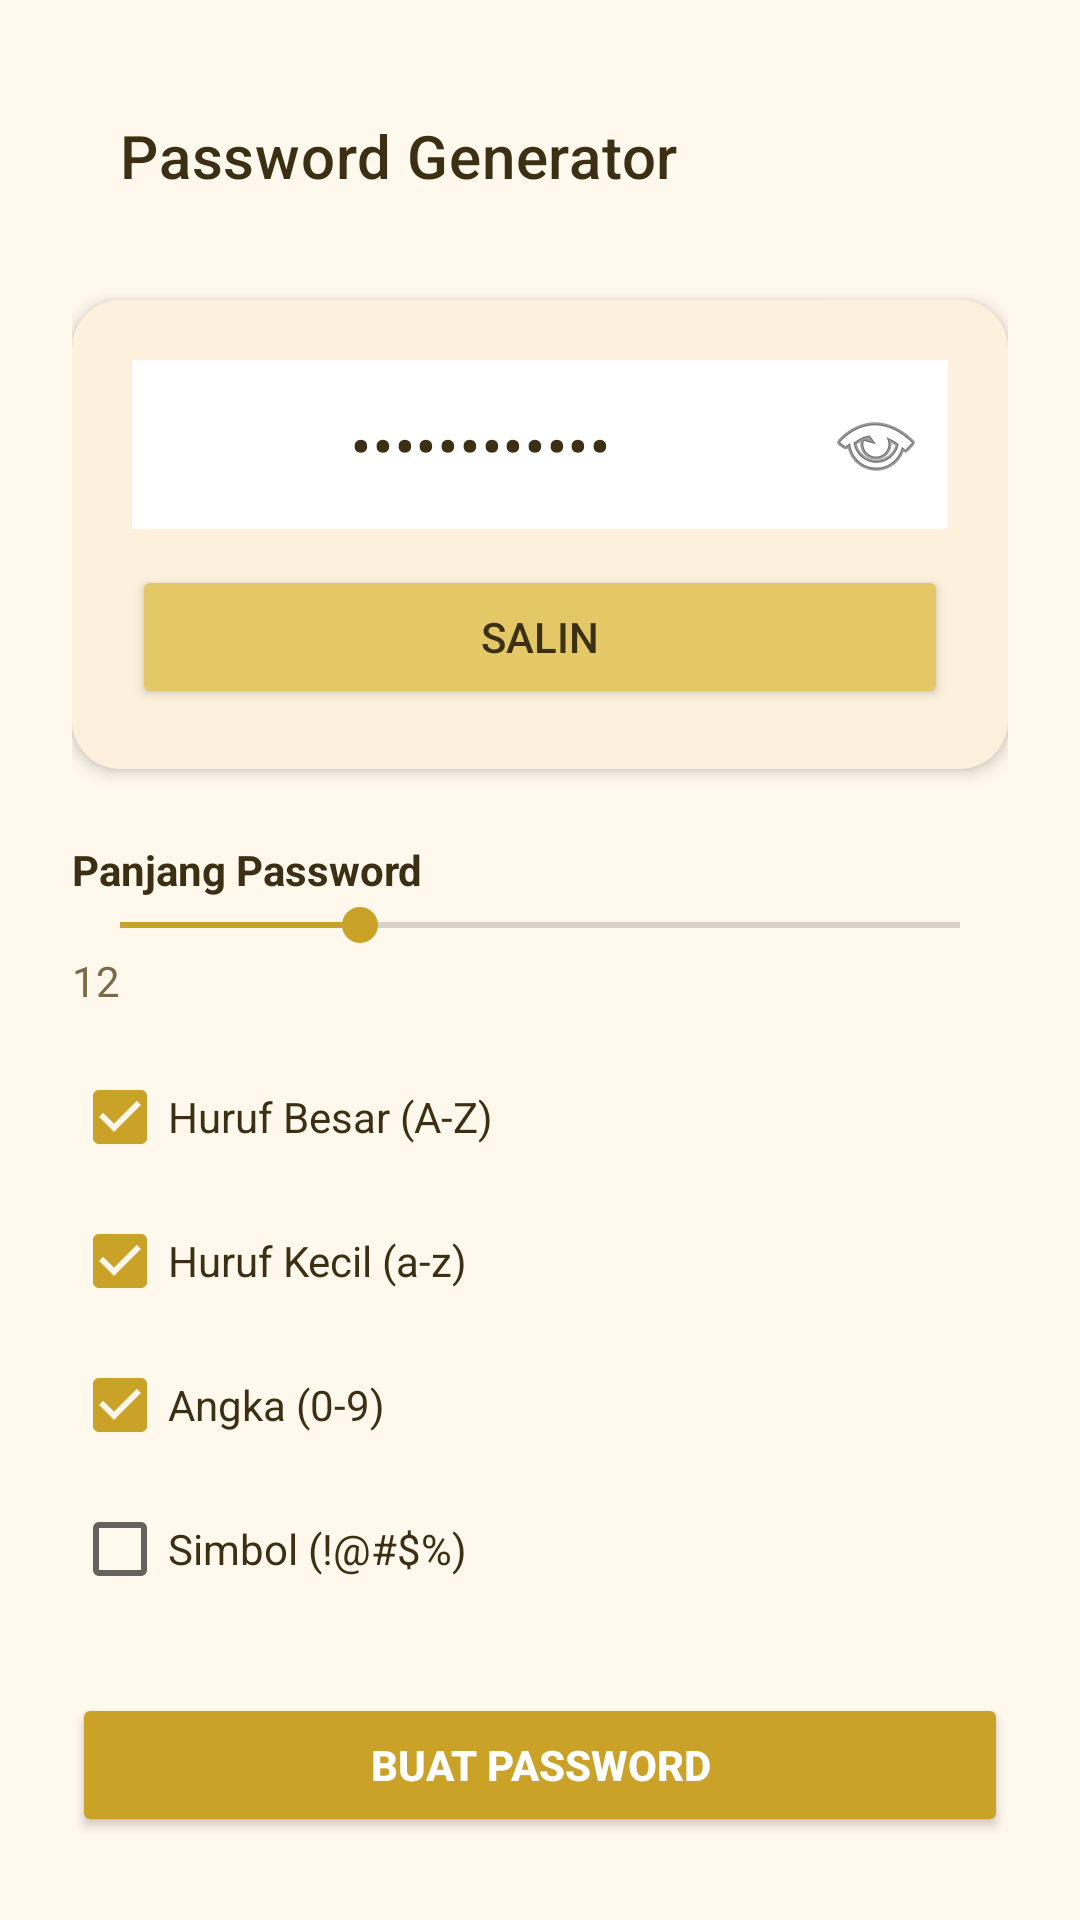

Icons on this 1080 x 1920 Android screen, each with its box as box=[x1, y1, x2, y2]:
Lihat/sembunyikan password: box=[837, 422, 915, 471]
